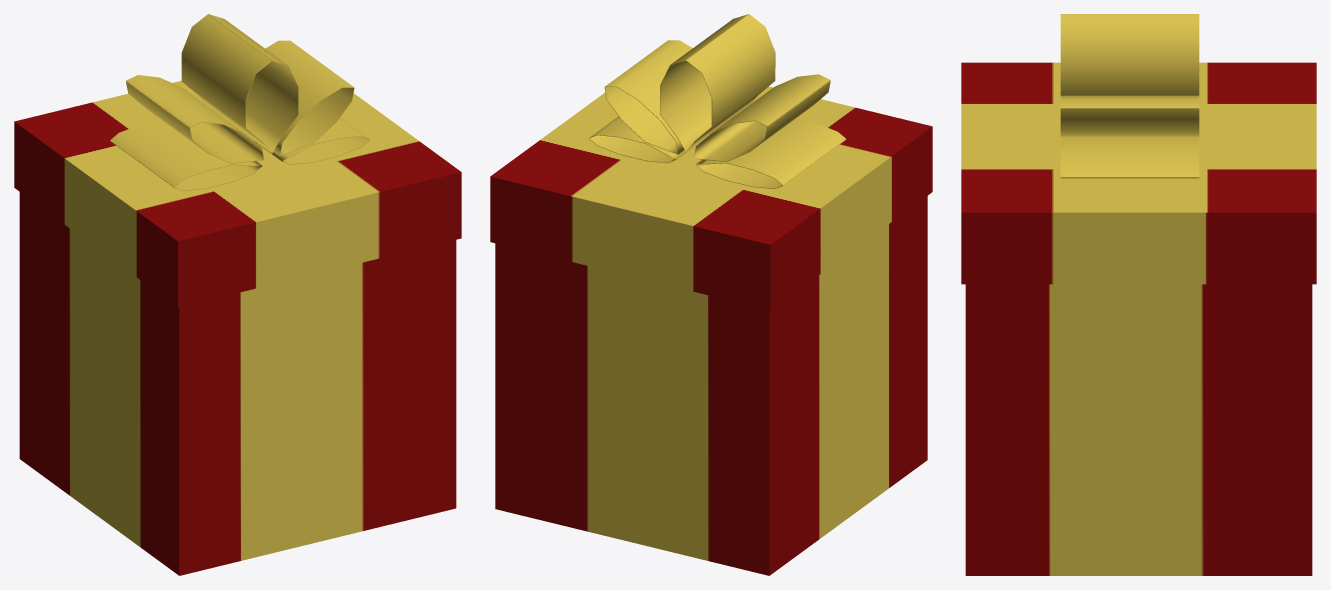
The model's file is present_plain_ver2.fbx.
The picture shows the model from 3 angles, left to right: view 1: azimuth 30°, elevation 25°; view 2: azimuth 150°, elevation 25°; view 3: azimuth 270°, elevation 25°; orthographic projection. The views are drawn at different scales.
Visible parts, largest first — view 1: Box, Top; view 2: Box, Top; view 3: Box, Top.
Part boxes in pixels (box(x1,y1,x2,y2)): Box: box(19, 192, 456, 575); Top: box(14, 14, 461, 307); Box: box(495, 196, 927, 575); Top: box(490, 14, 932, 310); Box: box(965, 284, 1312, 575); Top: box(961, 14, 1316, 284).
Bounding box in the file's own units: 10.24 × 15.52 × 10.24.
